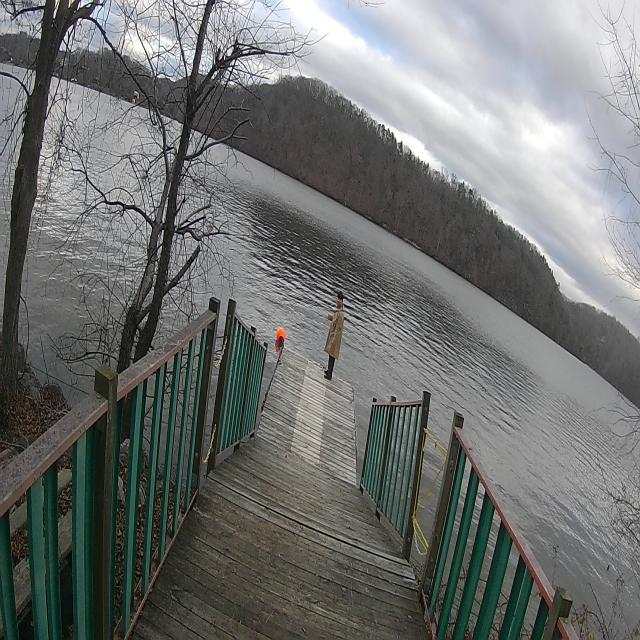Buoy: (276, 322, 287, 350)
